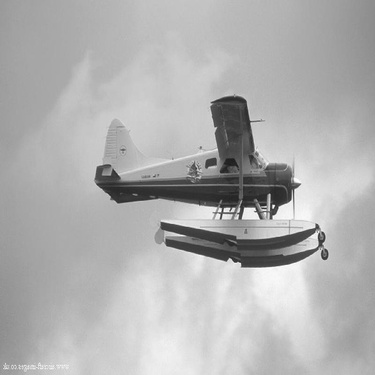airplane: (83, 85, 333, 269)
